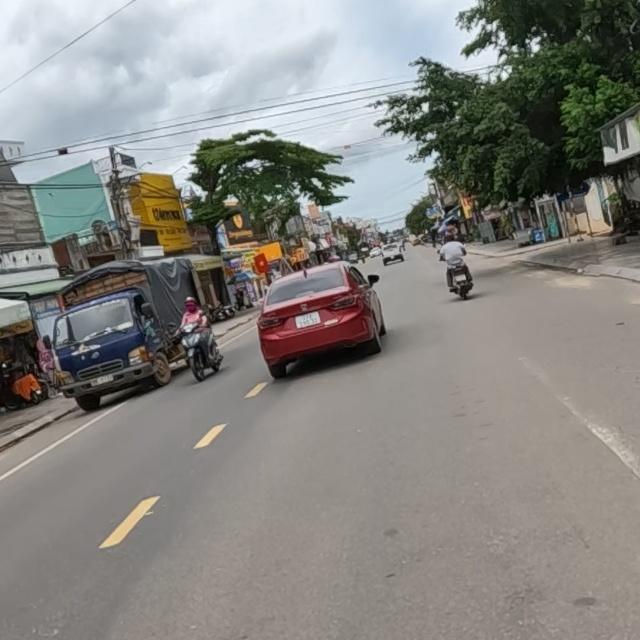license-plate: (294, 310, 321, 329)
